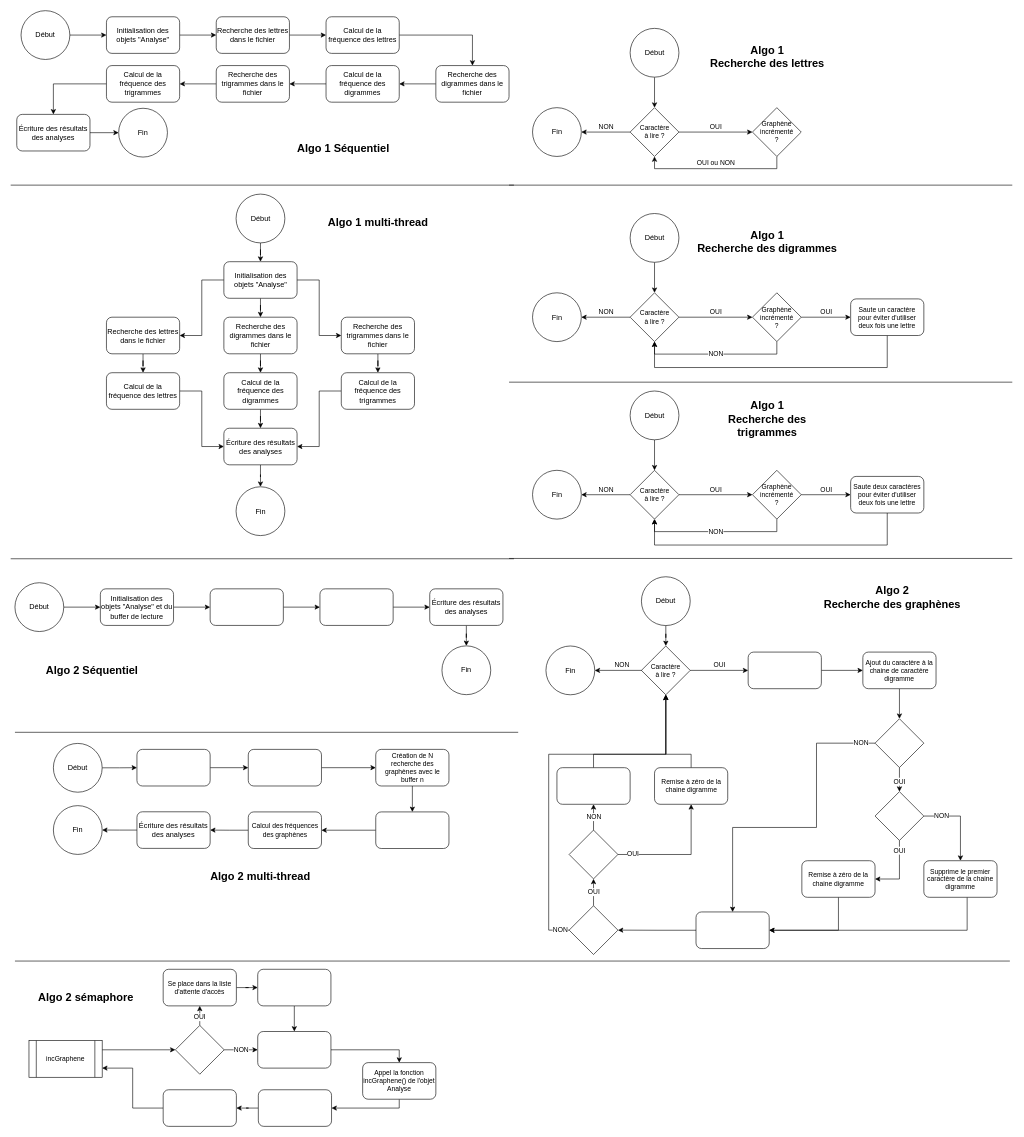
Some shapes in this 1024 by 1137 pixel diagram are drawn without their labels. Here are the shapes that lost their labels. From the top down, the centre of each, then its label:
point (246, 606): Recherche les lettres, les digrammes et les trigrammes dans le buffer
point (356, 606): Calcul des fréquences des lettres, digrammes et trigrammes
point (784, 670): Incrémentation lettre
point (899, 743): Taille de la chaine >=2
point (173, 767): Initialisation objet "Analyse"
point (284, 767): Découpage du fichier en N buffer
point (593, 785): Supprime le premier caractère de la chaine trigramme
point (412, 830): Attente de la fin de toutes les recherches
point (899, 815): Digramme incrémenté ?
point (593, 854): Trigramme incrémenté ?
point (593, 930): Taille de la chaine >=3
point (732, 930): Ajout du caractère à la chaine de caractère trigramme
point (294, 987): Arrive premier dans la liste d'attente
point (199, 1049): Verrou présent ?
point (294, 1049): Pose un verrou
point (199, 1107): Retourne vrai si le graphène est incrémenté, faux sinon
point (295, 1107): Enlève le verrou
